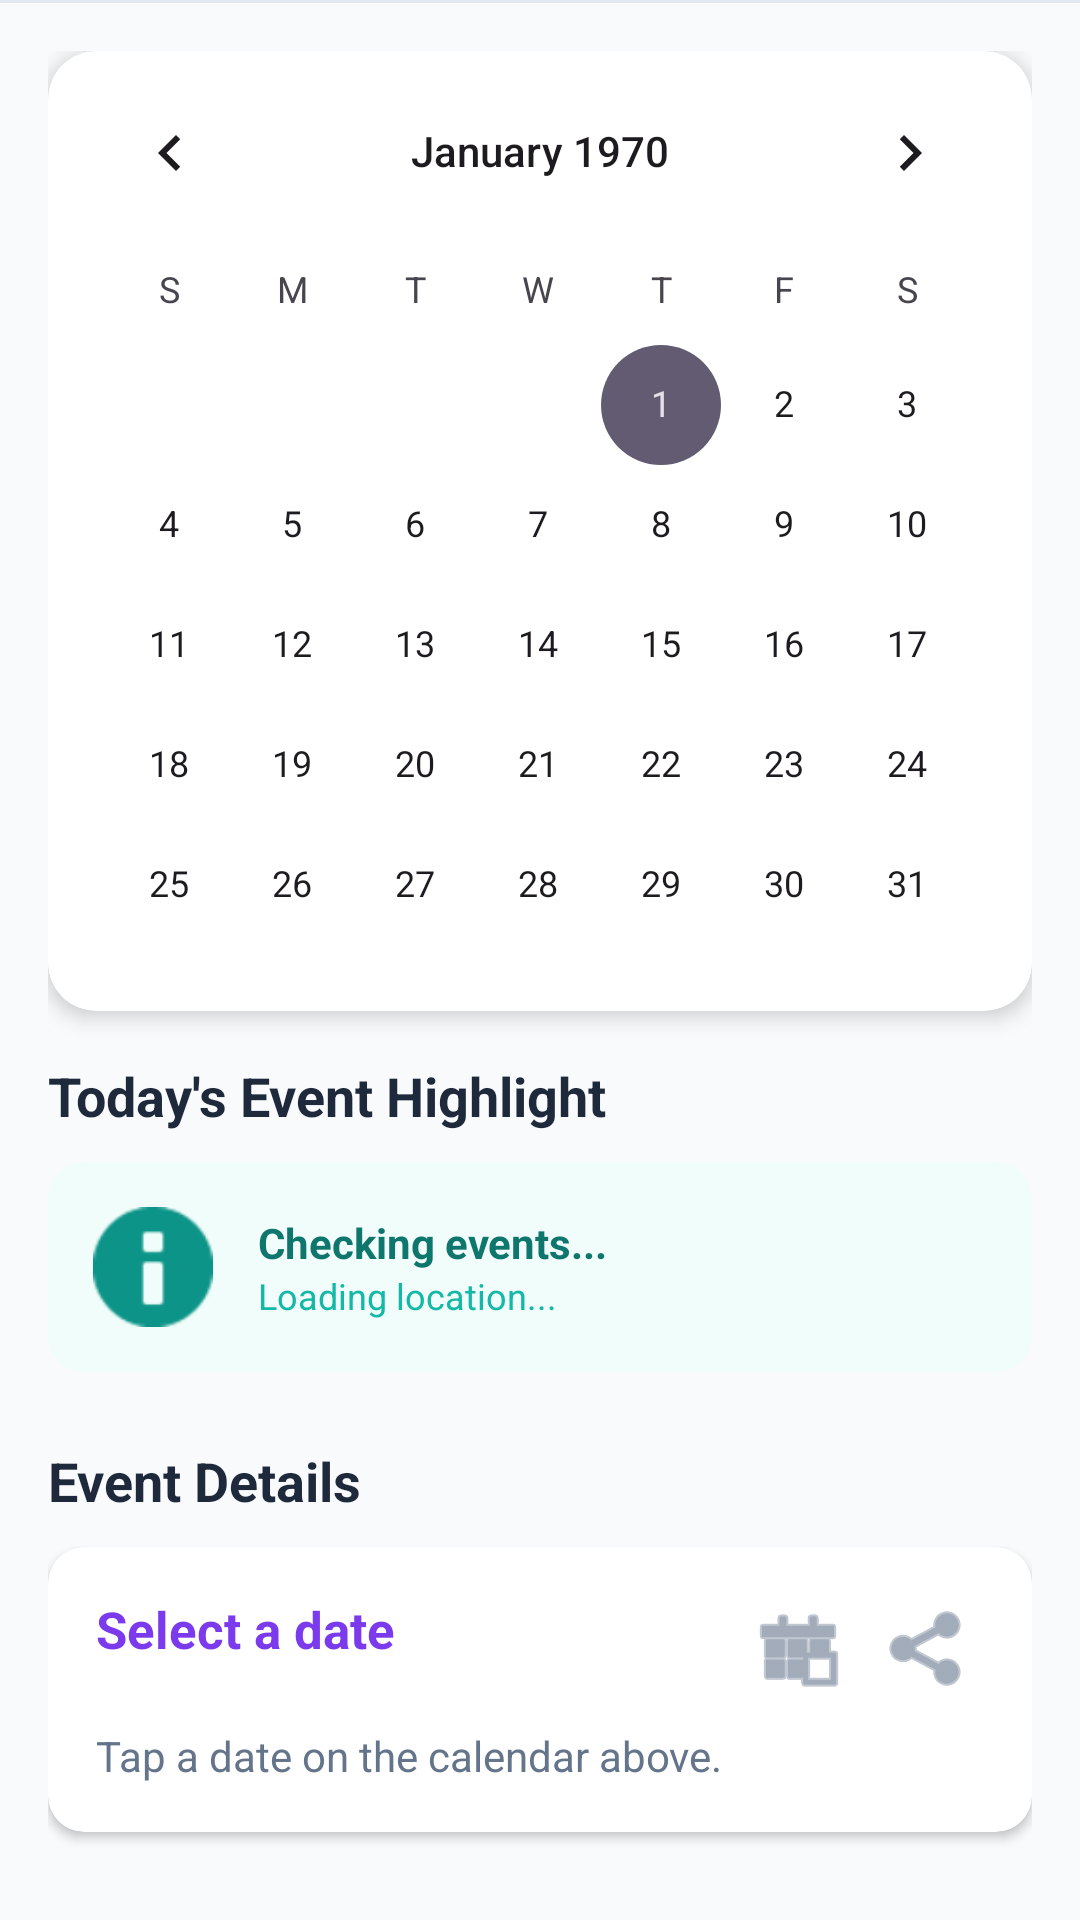

Icon click points for this 1080px x 1920px phone screenshot, format point (x, y):
info: point (153, 1267)
share: point (925, 1648)
today: point (799, 1650)
